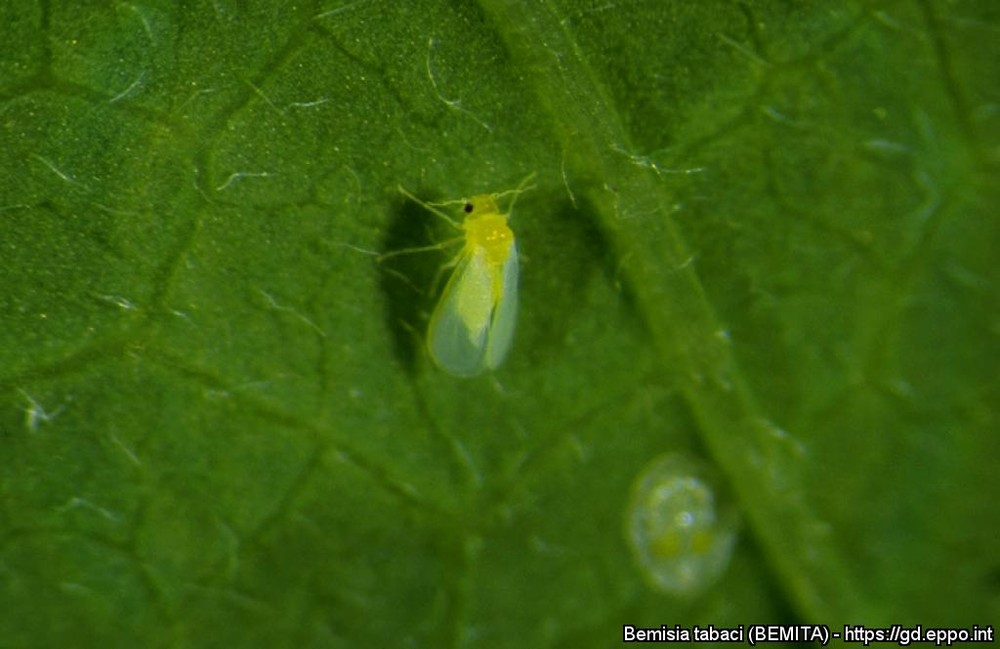Mosca Blanca: (373, 161, 571, 389)
